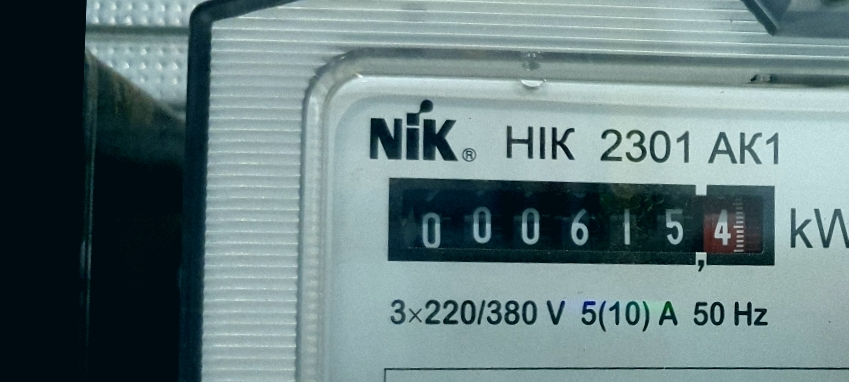0: (517, 203, 543, 247), (417, 207, 444, 249), (469, 203, 494, 243)
1: (620, 205, 634, 246)
4: (712, 205, 732, 246)
5: (662, 204, 686, 247)
6: (566, 205, 592, 246)
screen: (372, 158, 791, 288)
